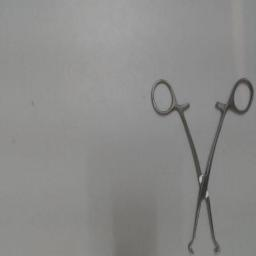Babcock Tissue Forceps: (145, 74, 255, 254)
